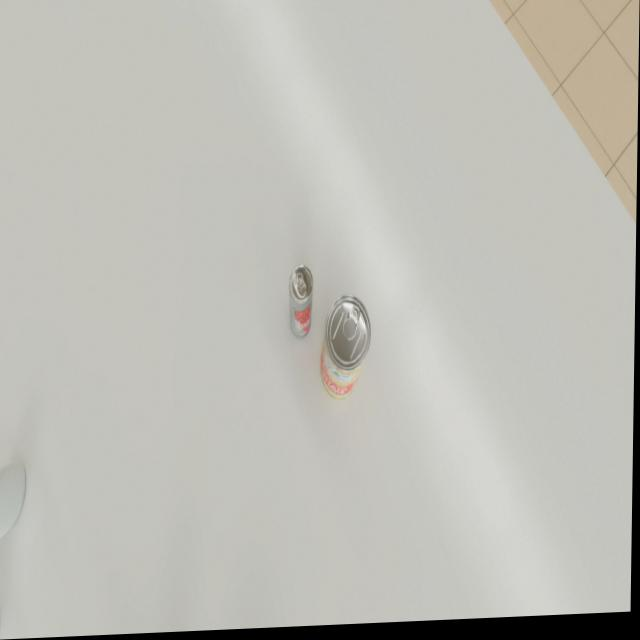Potato_sticks: (321, 296, 373, 403)
Rita_zero_sugar: (289, 267, 314, 342)
Salt: (0, 460, 27, 543)
